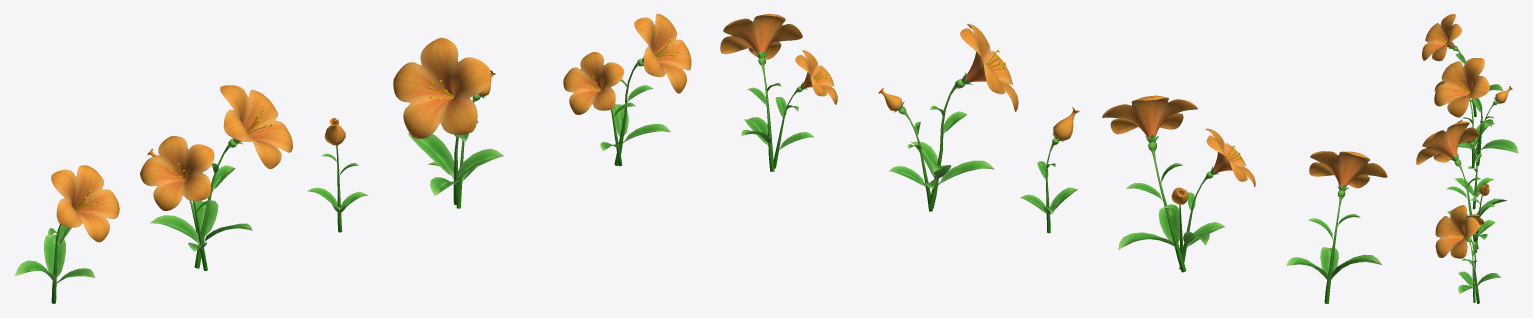
File: flowers.glb
3 views of the same model, side by side, from view 1: azimuth 30°, elevation 25°; view 2: azimuth 150°, elevation 25°; view 3: azimuth 270°, elevation 25° (orthographic). The views are drawn at different scales.
Visible parts, largest first — view 1: moon_flower_mdl_gohyun_r0:polySurface39_moon_flower_mdl_goh. (×4), moon_flower_mdl_gohyun_r0:polySurface39_moon_flower_mdl_goh, moon_flower_mdl_gohyun_r0:polySurface39_moon_flower_mdl_gohy, moon_flower_mdl_gohyun_r0:polySurface54_moon_flower_mdl_goh., moon_flower_mdl_gohyun_r0:polySurface53_moon_flower_mdl_gohy, moon_flower_mdl_gohyun_r0:polySurface53_moon_flower_mdl_goh., moon_flower_mdl_gohyun_r0:polySurface54_moon_flower_mdl_goh, moon_flower_mdl_gohyun_r0:polySurface53_moon_flower_mdl_goh, moon_flower_mdl_gohyun_r0:polySurface46_moon_flower_mdl_goh.; view 2: moon_flower_mdl_gohyun_r0:polySurface39_moon_flower_mdl_goh. (×4), moon_flower_mdl_gohyun_r0:polySurface39_moon_flower_mdl_gohy, moon_flower_mdl_gohyun_r0:polySurface39_moon_flower_mdl_goh, moon_flower_mdl_gohyun_r0:polySurface46_moon_flower_mdl_goh. (×2), moon_flower_mdl_gohyun_r0:polySurface56_moon_flower_mdl_goh. (×2); view 3: moon_flower_mdl_gohyun_r0:polySurface39_moon_flower_mdl_goh. (×4), moon_flower_mdl_gohyun_r0:polySurface39_moon_flower_mdl_gohy, moon_flower_mdl_gohyun_r0:polySurface46_moon_flower_mdl_goh. (×7), moon_flower_mdl_gohyun_r0:polySurface56_moon_flower_mdl_goh. (×3), moon_flower_mdl_gohyun_r0:polySurface53_moon_flower_mdl_goh, moon_flower_mdl_gohyun_r0:polySurface54_moon_flower_mdl_goh. (×2), moon_flower_mdl_gohyun_r0:polySurface53_moon_flower_mdl_goh. (×2), moon_flower_mdl_gohyun_r0:polySurface46_moon_flower_mdl_goh, moon_flower_mdl_gohyun_r0:polySurface54_moon_flower_mdl_goh, moon_flower_mdl_gohyun_r0:polySurface46_moon_flower_mdl_gohy, moon_flower_mdl_gohyun_r0:polySurface83_moon_flower_mdl_goh..
Part boxes in pixels (<box>): moon_flower_mdl_gohyun_r0:polySurface39_moon_flower_mdl_goh. (×4): <box>220,14,691,168</box>; moon_flower_mdl_gohyun_r0:polySurface39_moon_flower_mdl_goh: <box>140,136,214,210</box>; moon_flower_mdl_gohyun_r0:polySurface39_moon_flower_mdl_gohy: <box>51,165,119,242</box>; moon_flower_mdl_gohyun_r0:polySurface54_moon_flower_mdl_goh.: <box>408,133,454,179</box>; moon_flower_mdl_gohyun_r0:polySurface53_moon_flower_mdl_gohy: <box>44,234,65,277</box>; moon_flower_mdl_gohyun_r0:polySurface53_moon_flower_mdl_goh.: <box>458,148,503,178</box>; moon_flower_mdl_gohyun_r0:polySurface54_moon_flower_mdl_goh: <box>149,215,199,244</box>; moon_flower_mdl_gohyun_r0:polySurface53_moon_flower_mdl_goh: <box>192,200,218,235</box>; moon_flower_mdl_gohyun_r0:polySurface46_moon_flower_mdl_goh.: <box>194,138,237,268</box>; moon_flower_mdl_gohyun_r0:polySurface39_moon_flower_mdl_goh. (×4): <box>720,14,1197,139</box>; moon_flower_mdl_gohyun_r0:polySurface39_moon_flower_mdl_gohy: <box>1309,151,1387,188</box>; moon_flower_mdl_gohyun_r0:polySurface39_moon_flower_mdl_goh: <box>1205,128,1255,187</box>; moon_flower_mdl_gohyun_r0:polySurface46_moon_flower_mdl_goh. (×2): <box>928,79,1186,272</box>; moon_flower_mdl_gohyun_r0:polySurface56_moon_flower_mdl_goh. (×2): <box>938,160,1179,243</box>; moon_flower_mdl_gohyun_r0:polySurface39_moon_flower_mdl_goh. (×4): <box>1416,58,1489,258</box>; moon_flower_mdl_gohyun_r0:polySurface39_moon_flower_mdl_gohy: <box>1422,14,1461,61</box>; moon_flower_mdl_gohyun_r0:polySurface46_moon_flower_mdl_goh. (×7): <box>1454,98,1482,303</box>; moon_flower_mdl_gohyun_r0:polySurface56_moon_flower_mdl_goh. (×3): <box>1454,178,1476,294</box>; moon_flower_mdl_gohyun_r0:polySurface53_moon_flower_mdl_goh: <box>1480,139,1518,153</box>; moon_flower_mdl_gohyun_r0:polySurface54_moon_flower_mdl_goh. (×2): <box>1476,177,1506,218</box>; moon_flower_mdl_gohyun_r0:polySurface53_moon_flower_mdl_goh. (×2): <box>1477,219,1500,285</box>; moon_flower_mdl_gohyun_r0:polySurface46_moon_flower_mdl_goh: <box>1471,100,1497,166</box>; moon_flower_mdl_gohyun_r0:polySurface54_moon_flower_mdl_goh: <box>1474,122,1494,146</box>; moon_flower_mdl_gohyun_r0:polySurface46_moon_flower_mdl_gohy: <box>1452,45,1476,116</box>; moon_flower_mdl_gohyun_r0:polySurface83_moon_flower_mdl_goh.: <box>1446,186,1467,199</box>.
Size of the model in its own units: 11.94 by 3.07 by 2.33.
4 materials, 4 textured.
